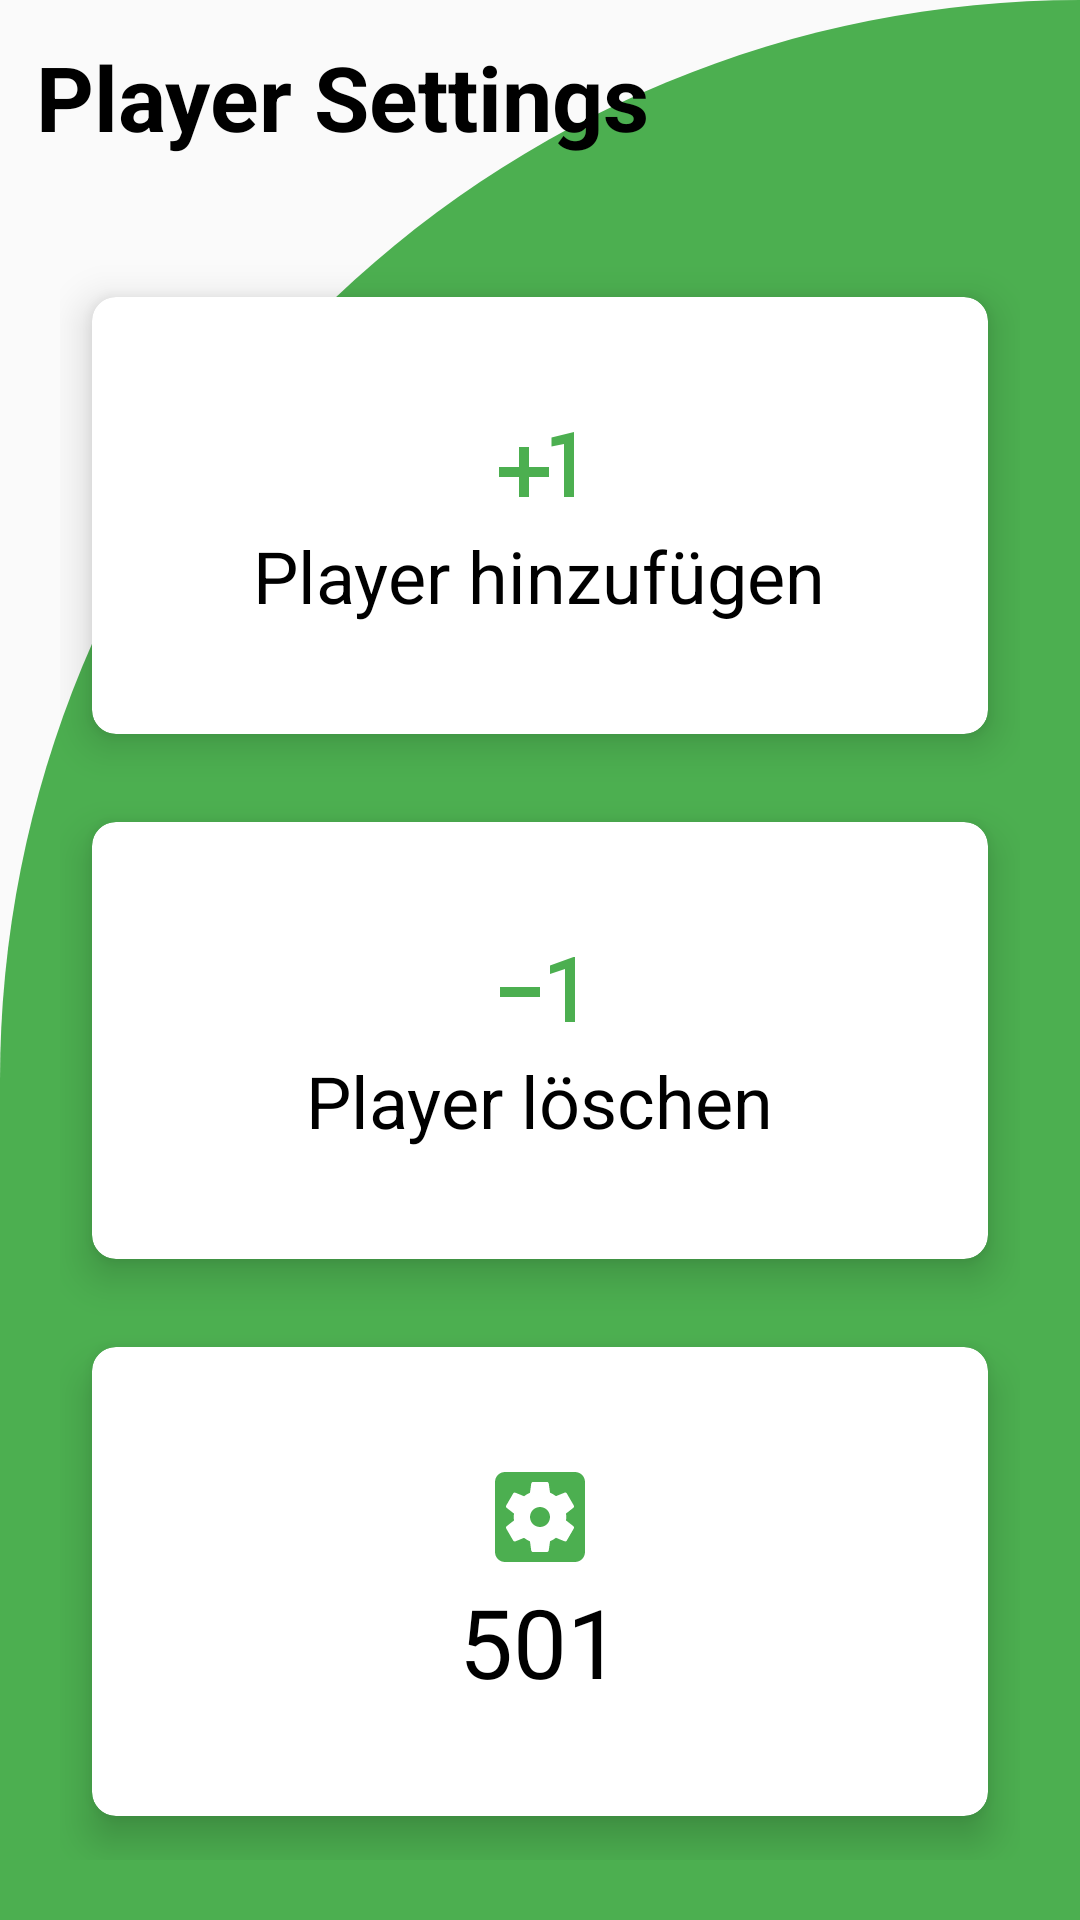

Named icons in this screenshot (1080px×1920px) and their centers, (x=x, y=y):
playerminus: (x=537, y=989)
playerplus: (x=536, y=464)
